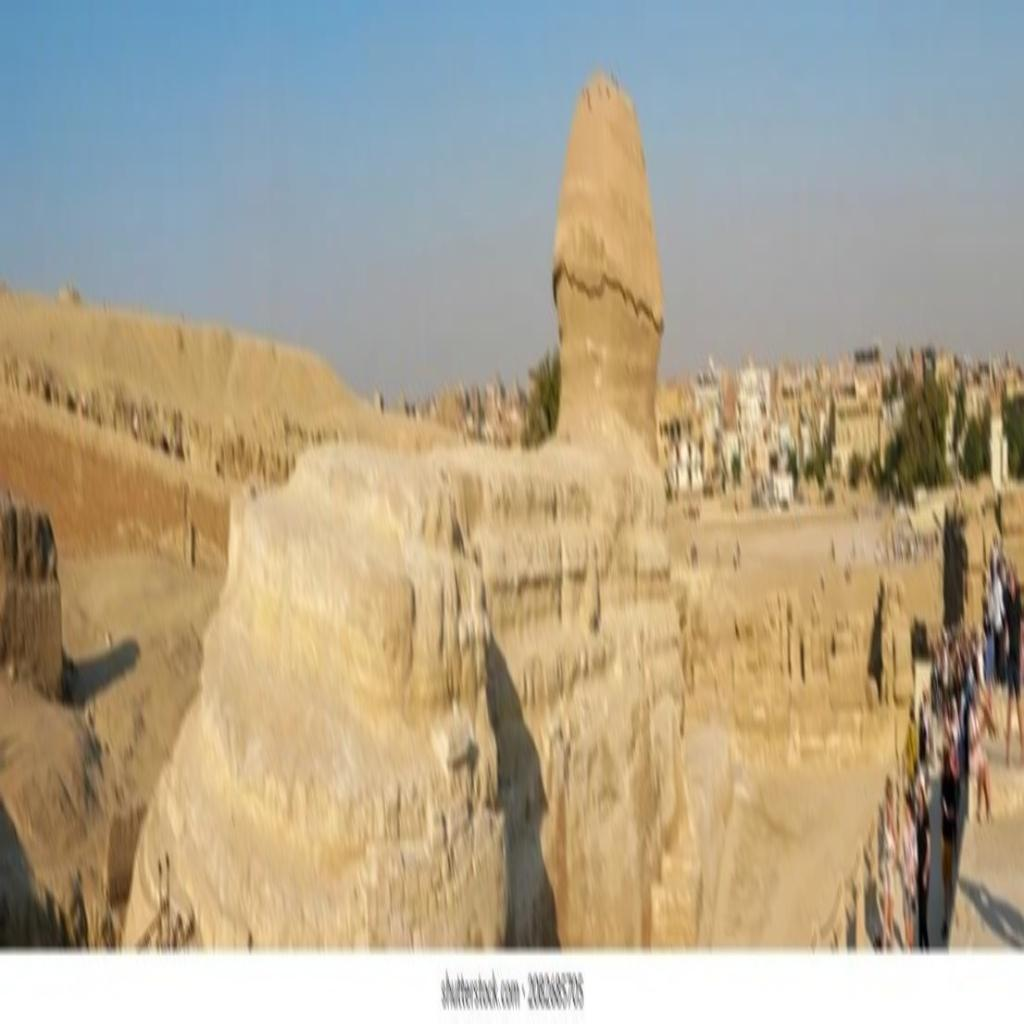Sphinx: (121, 70, 709, 948), (551, 70, 664, 458)
